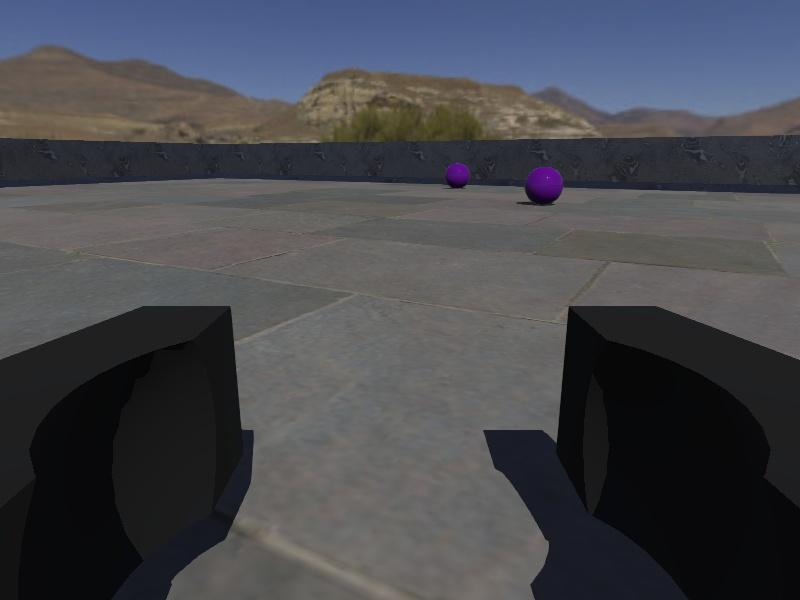violet ball: (525, 166, 564, 205), (445, 162, 471, 187)
